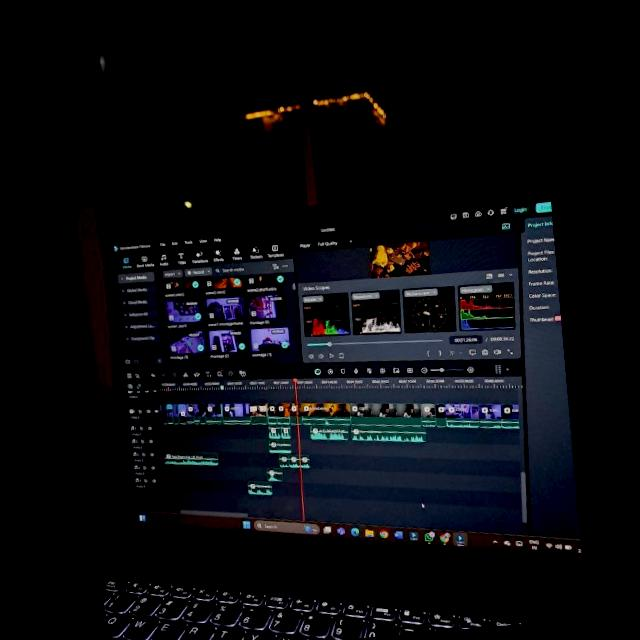laptop: (100, 173, 587, 640)
